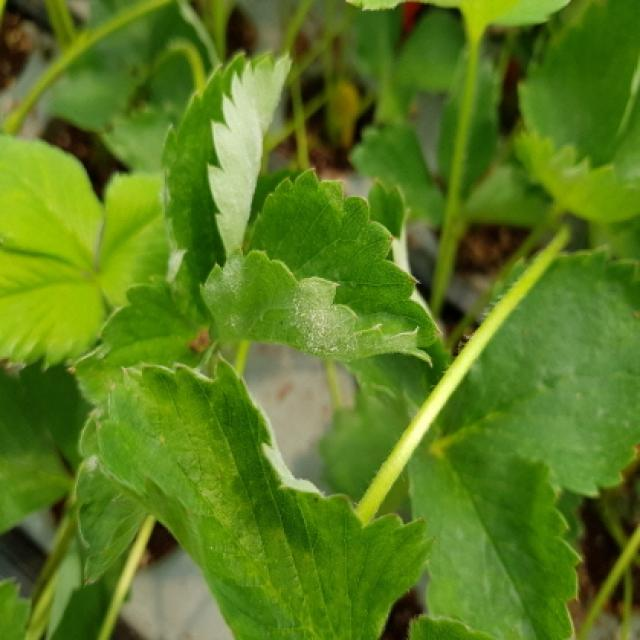Powdery Mildew Leaf: (93, 355, 441, 638), (199, 167, 443, 367), (67, 273, 214, 588), (160, 50, 294, 289)
